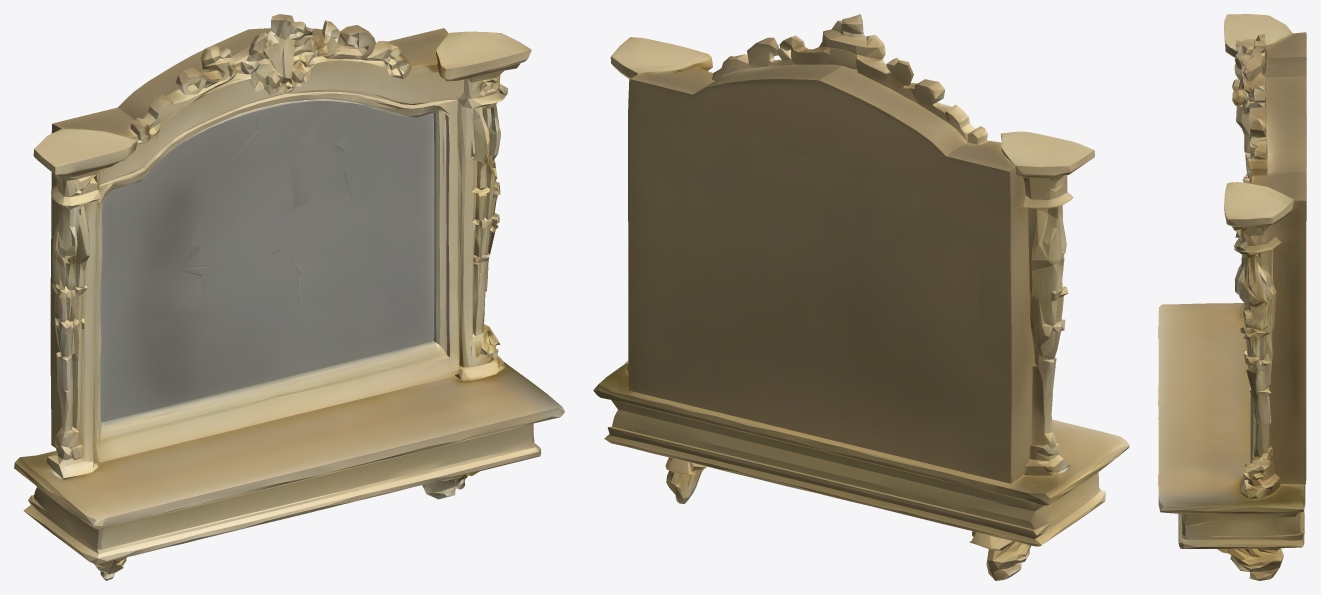
The model's file is mirror-shelf.glb.
3 views of the same model, side by side, from view 1: azimuth 30°, elevation 25°; view 2: azimuth 150°, elevation 25°; view 3: azimuth 270°, elevation 25° (orthographic). The views are drawn at different scales.
Parts seen in each view (by area): view 1: model; view 2: model; view 3: model.
Part boxes in pixels (box(x1,y1,x2,y2)): model: box(14, 14, 564, 580); model: box(593, 14, 1129, 580); model: box(1158, 14, 1306, 580).
Size of the model in its own units: 1.79 by 1.89 by 0.5459.
1 material, 1 textured.
